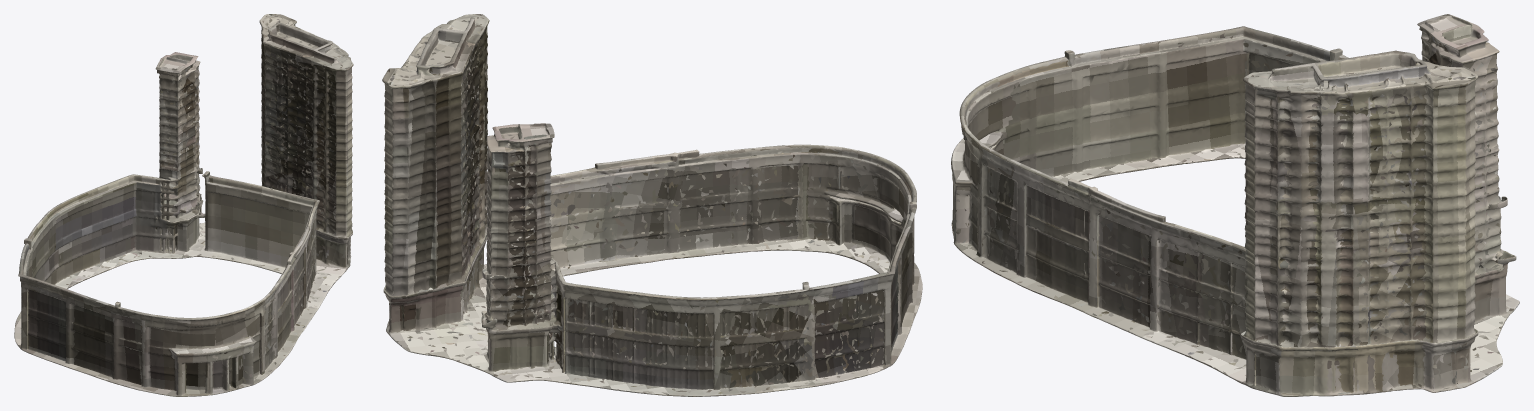
File: avenue.glb
3 renders of one model, left to right at view 1: azimuth 30°, elevation 25°; view 2: azimuth 150°, elevation 25°; view 3: azimuth 270°, elevation 25°, orthographic. The views are drawn at different scales.
Visible parts, largest first — view 1: input; view 2: input; view 3: input.
Boxes of the visible parts, x1=… form: input: x1=14, y1=14, x2=353, y2=396; input: x1=382, y1=14, x2=922, y2=396; input: x1=951, y1=14, x2=1519, y2=396.
Bounding box in the file's own units: 1 × 0.5686 × 0.9306.
1 material, 1 textured.
